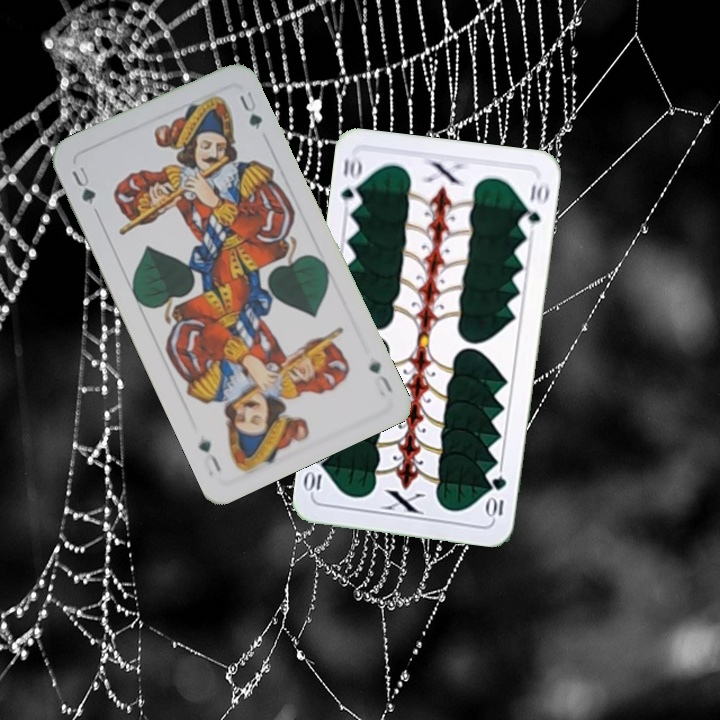G10: (337, 152, 365, 212), (484, 471, 509, 521)
GU: (67, 160, 99, 208), (364, 357, 396, 400)
